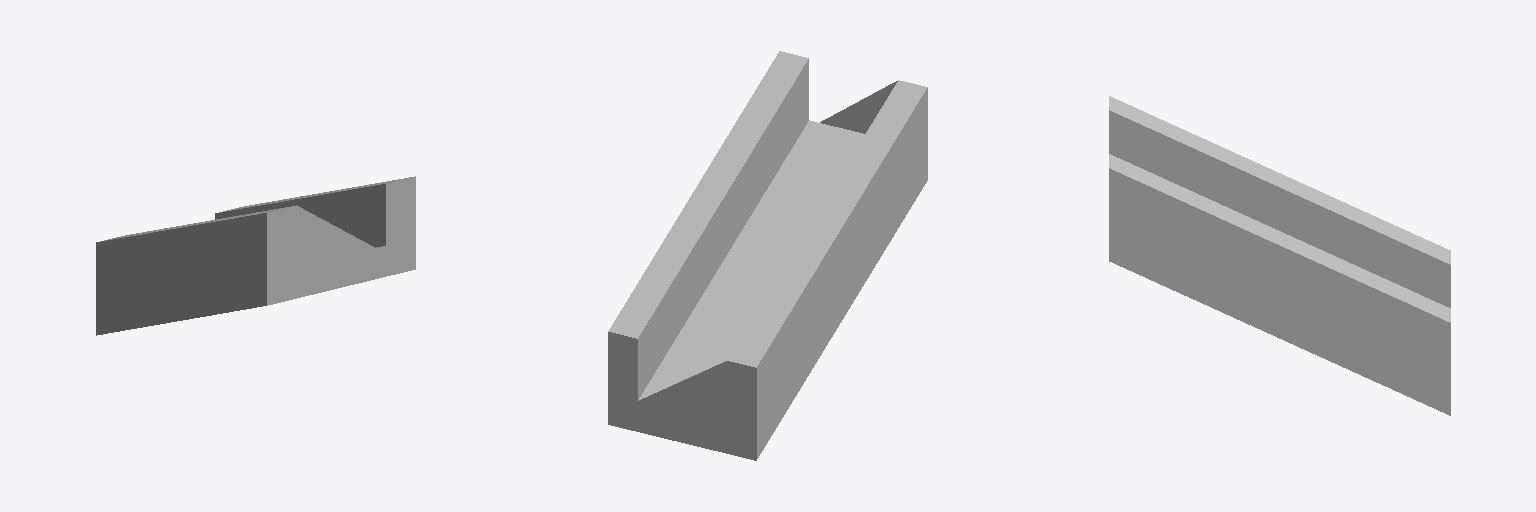
The model's file is ThinRamp.obj.
3 views of the same model, side by side, from view 1: azimuth 30°, elevation 25°; view 2: azimuth 150°, elevation 25°; view 3: azimuth 270°, elevation 25° (orthographic).
Visible parts, largest first — view 1: ThinRamp; view 2: ThinRamp; view 3: ThinRamp.
Part boxes in pixels (left/top/right/bottom): ThinRamp: left=96, top=176, right=415, bottom=335; ThinRamp: left=608, top=51, right=927, bottom=460; ThinRamp: left=1109, top=96, right=1450, bottom=415.
Size of the model in its own units: 1 by 1.6 by 2.